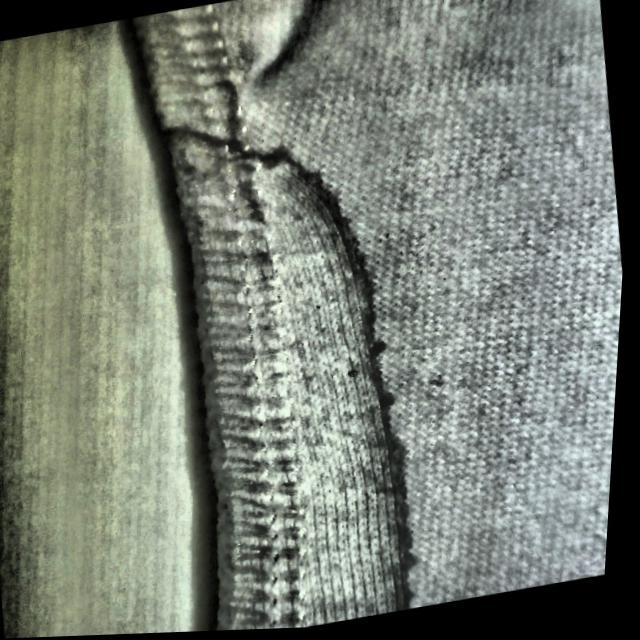seam: (133, 103, 532, 639)
